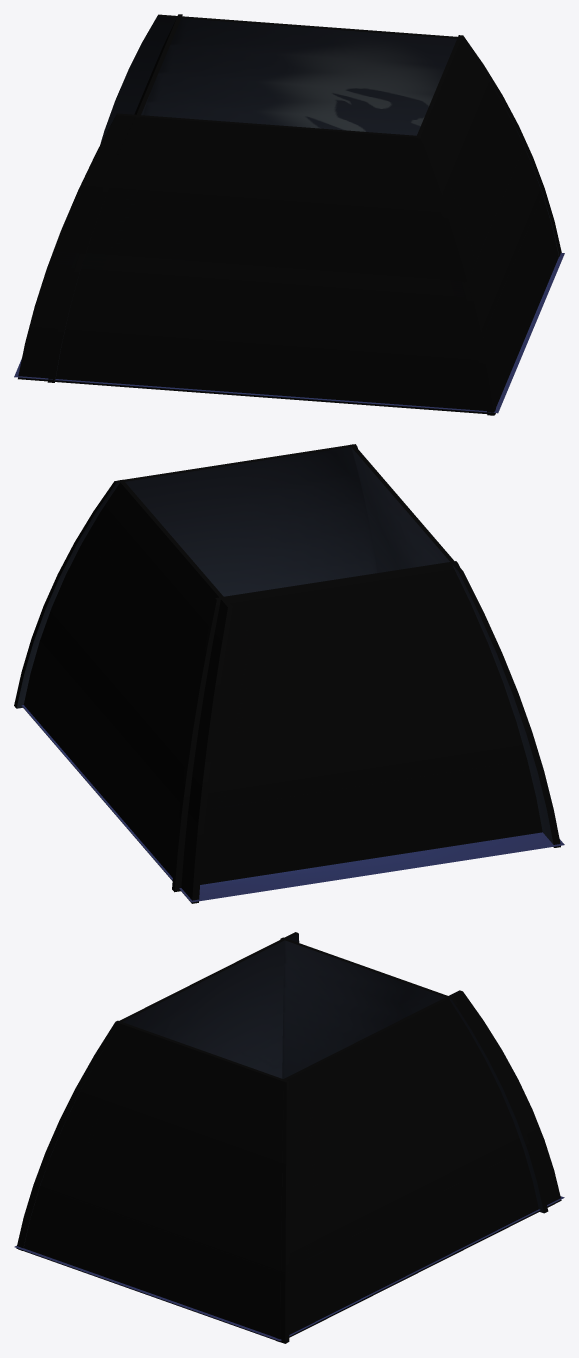
The model's file is ExhibitModel_005.glb.
The picture shows the model from 3 angles, top to bottom: view 1: azimuth 30°, elevation 25°; view 2: azimuth 150°, elevation 25°; view 3: azimuth 270°, elevation 25°; orthographic projection. The views are drawn at different scales.
Parts seen in each view (by area): view 1: WallsFloor; view 2: WallsFloor; view 3: WallsFloor.
Boxes of the visible parts, x1,y1,x2,y2 form: WallsFloor: [14, 14, 564, 415]; WallsFloor: [14, 444, 564, 903]; WallsFloor: [14, 932, 564, 1343].
Size of the model in its own units: 46.79 by 20 by 45.79.
Materials: 1 (1 with a texture image).
